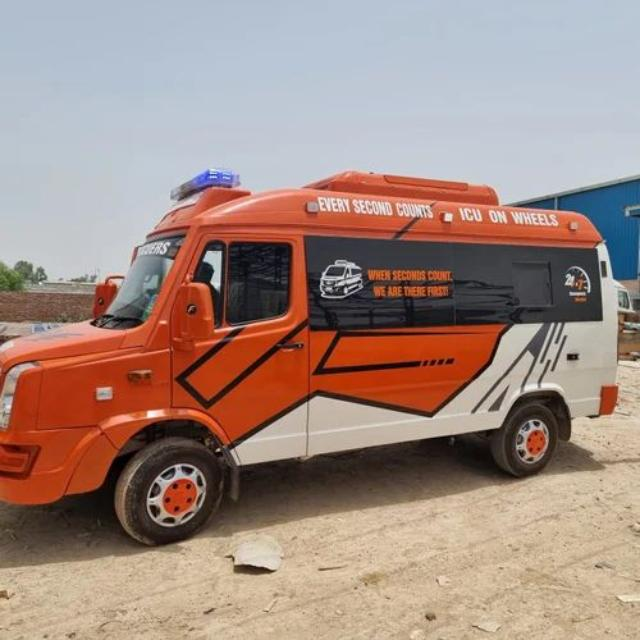ambulance: (2, 121, 632, 545)
